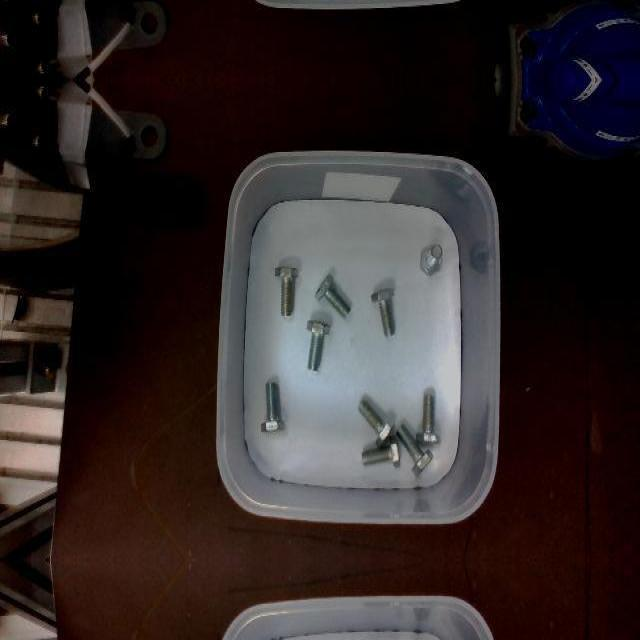screw: (395, 424, 433, 478), (357, 398, 395, 448), (314, 273, 351, 319), (361, 434, 399, 468), (371, 287, 396, 337), (416, 393, 441, 443), (306, 318, 330, 370), (260, 382, 284, 432), (275, 265, 298, 315), (420, 242, 442, 276)
